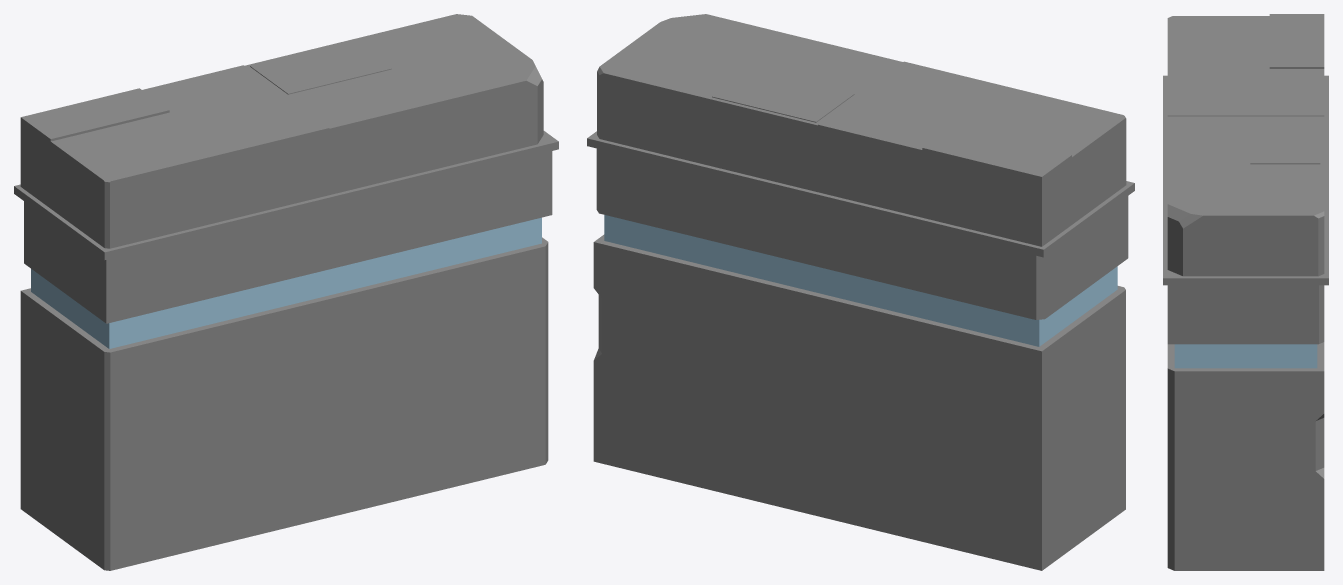
The model's file is Stage006.fbx.
3 views of the same model, side by side, from view 1: azimuth 30°, elevation 25°; view 2: azimuth 150°, elevation 25°; view 3: azimuth 270°, elevation 25° (orthographic). The views are drawn at different scales.
Parts seen in each view (by area): view 1: Cube; view 2: Cube; view 3: Cube.
Boxes of the visible parts, bbox=[...] form: Cube: bbox=[14, 14, 558, 570]; Cube: bbox=[587, 14, 1134, 570]; Cube: bbox=[1163, 14, 1328, 570].
Size of the model in its own units: 611 by 504 by 211.
